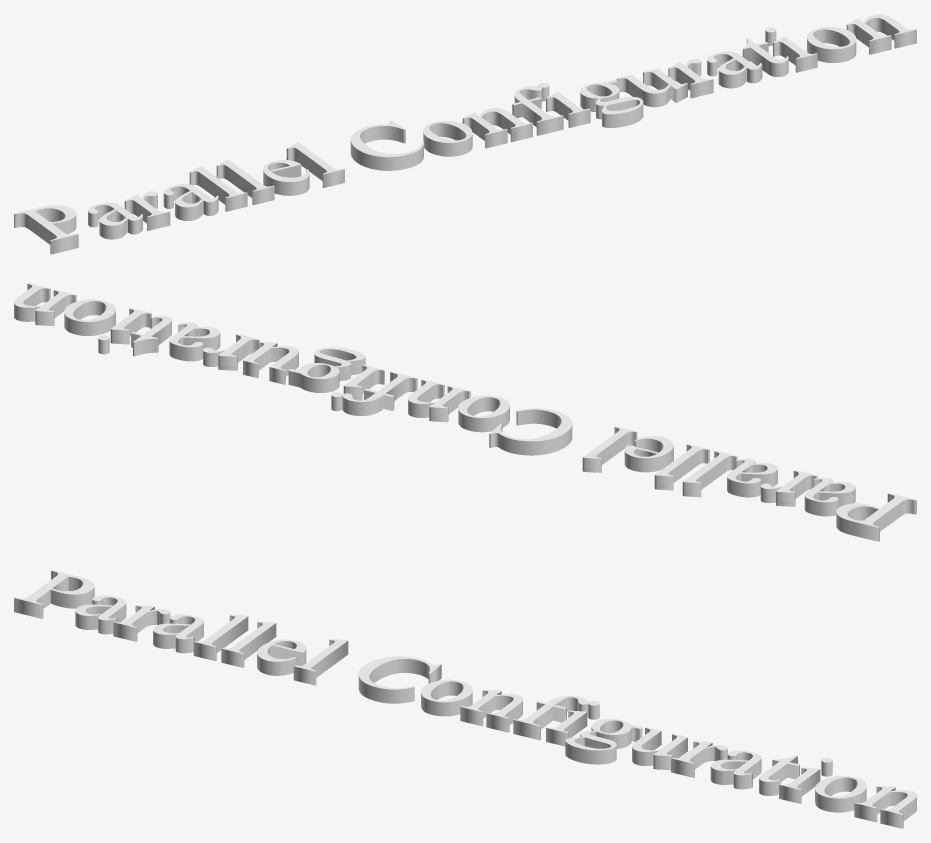
Rendered from ParaConfigtext.obj.
3 views of the same model, one above another, from view 1: azimuth 30°, elevation 25°; view 2: azimuth 150°, elevation 25°; view 3: azimuth 330°, elevation 25° (orthographic). The views are drawn at different scales.
Visible parts, largest first — view 1: Text; view 2: Text; view 3: Text.
Part boxes in pixels (x1,y1,x2,y2): Text: [14, 14, 916, 254]; Text: [14, 283, 916, 541]; Text: [14, 570, 916, 828].
Size of the model in its own units: 6.61 by 0.1 by 0.6761.
1 material, 1 textured.
